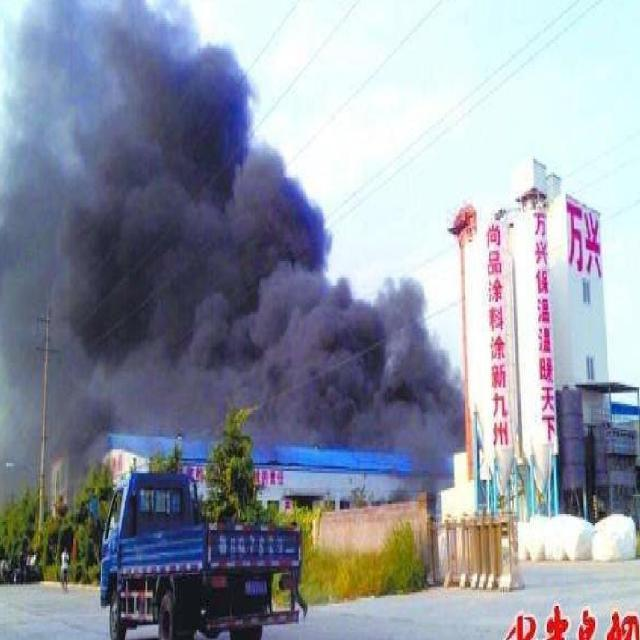Smoke: (83, 0, 466, 451), (0, 0, 85, 489)
